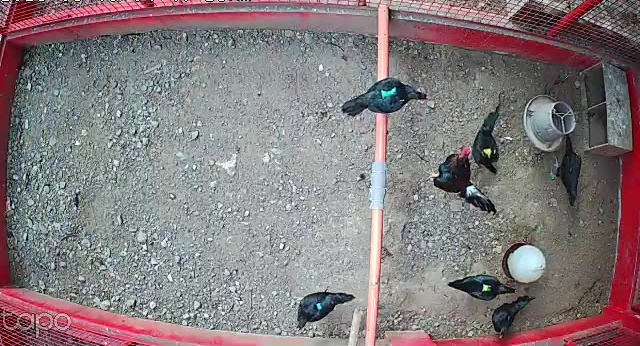Chicken: (337, 76, 441, 122), (289, 289, 364, 332), (469, 103, 511, 175), (548, 133, 588, 204), (486, 290, 538, 340), (448, 269, 518, 304)
Drinker: (500, 243, 549, 284)
Feeder: (521, 94, 578, 154)
Rooster: (422, 146, 500, 222)
Saddle_Color_Blue: (316, 302, 320, 309)
Saddle_Color_Bluegreen: (380, 86, 400, 100)
Saddle_Color_Yellow: (482, 148, 498, 157)
Saddle_Color_YellowGreen: (480, 283, 493, 293)
